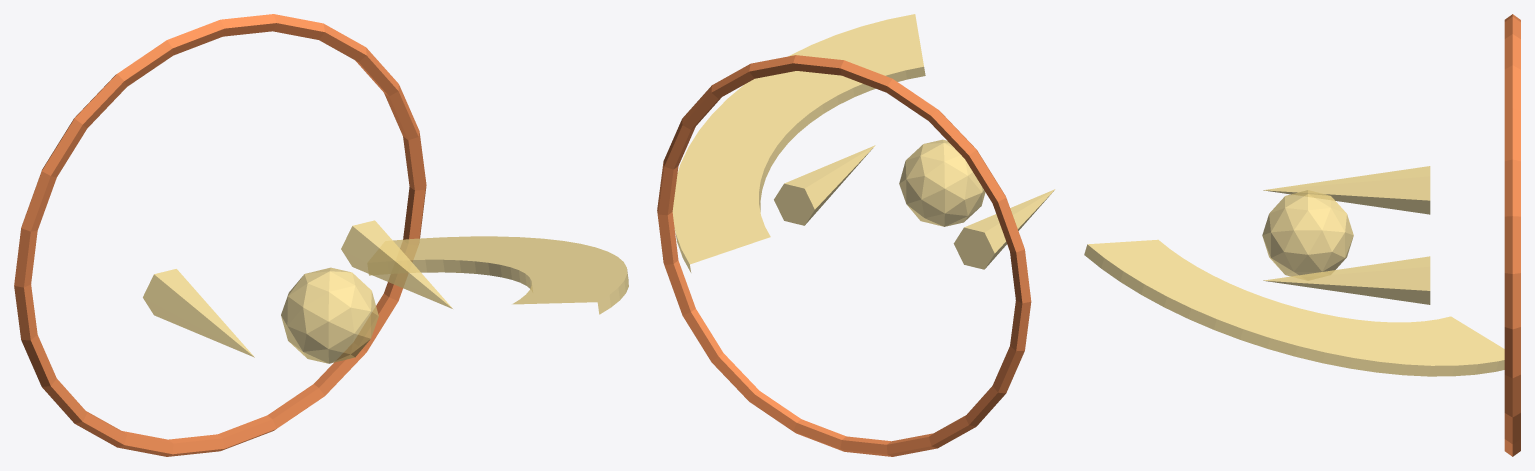
File: 01_special_attack_vfx.glb
3 renders of one model, left to right at view 1: azimuth 30°, elevation 25°; view 2: azimuth 150°, elevation 25°; view 3: azimuth 270°, elevation 25°, orthographic. The views are drawn at different scales.
Parts seen in each view (by area): view 1: impact_window_ring, combo_slash_or_magic_arc, timing_core, telegraph_spike_b, telegraph_spike_a; view 2: combo_slash_or_magic_arc, impact_window_ring, timing_core, telegraph_spike_b, telegraph_spike_a; view 3: combo_slash_or_magic_arc, impact_window_ring, timing_core, telegraph_spike_b, telegraph_spike_a.
Part boxes in pixels (bbox=[...]): impact_window_ring: bbox=[14, 14, 426, 456]; combo_slash_or_magic_arc: bbox=[368, 236, 628, 314]; timing_core: bbox=[281, 267, 378, 363]; telegraph_spike_b: bbox=[341, 220, 452, 308]; telegraph_spike_a: bbox=[143, 269, 254, 357]; combo_slash_or_magic_arc: bbox=[672, 14, 925, 272]; impact_window_ring: bbox=[657, 55, 1031, 456]; timing_core: bbox=[899, 139, 985, 226]; telegraph_spike_b: bbox=[774, 145, 875, 225]; telegraph_spike_a: bbox=[953, 189, 1055, 269]; combo_slash_or_magic_arc: bbox=[1084, 239, 1504, 376]; impact_window_ring: bbox=[1504, 14, 1520, 456]; timing_core: bbox=[1262, 190, 1353, 276]; telegraph_spike_b: bbox=[1263, 256, 1430, 304]; telegraph_spike_a: bbox=[1263, 166, 1430, 214].
Bounding box in the file's own units: 1.65 × 1.46 × 1.43.
